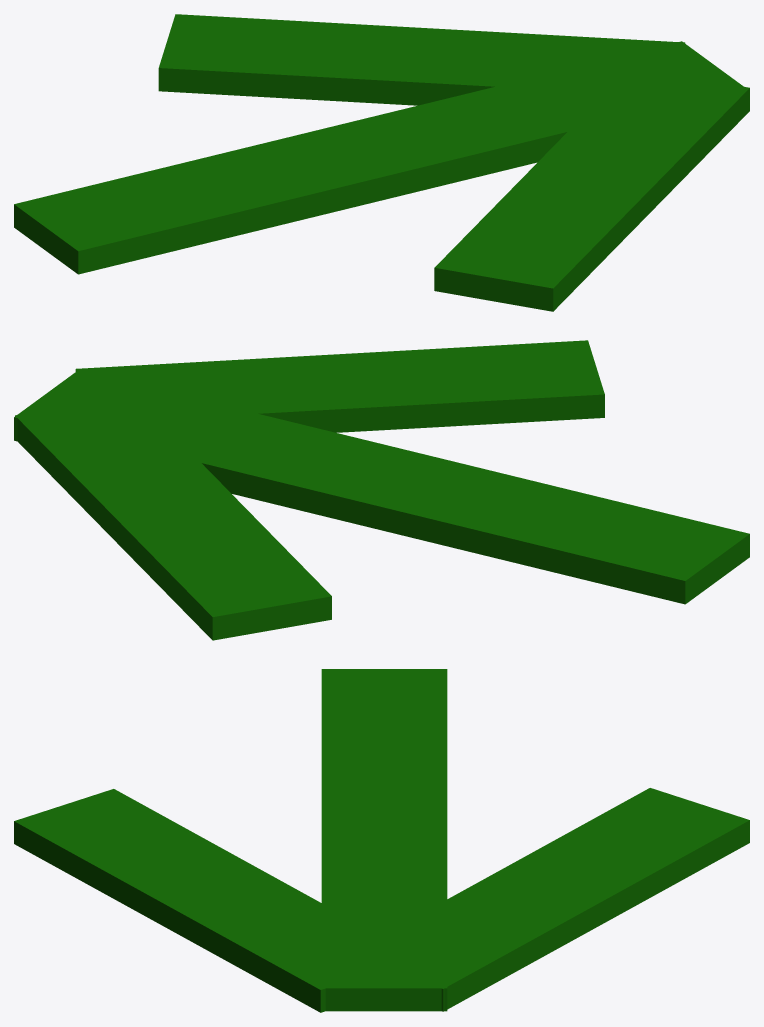
Rendered from Arrow.fbx.
3 renders of one model, top to bottom at view 1: azimuth 30°, elevation 25°; view 2: azimuth 150°, elevation 25°; view 3: azimuth 270°, elevation 25°, orthographic. The views are drawn at different scales.
Visible parts, largest first — view 1: cuboid; view 2: cuboid; view 3: cuboid.
Part boxes in pixels (x1,y1,x2,y2): cuboid: (14, 14, 749, 311); cuboid: (14, 340, 749, 640); cuboid: (14, 669, 749, 1012).
Bounding box in the file's own units: 37.69 × 1.25 × 36.52.
1 material, 1 textured.
